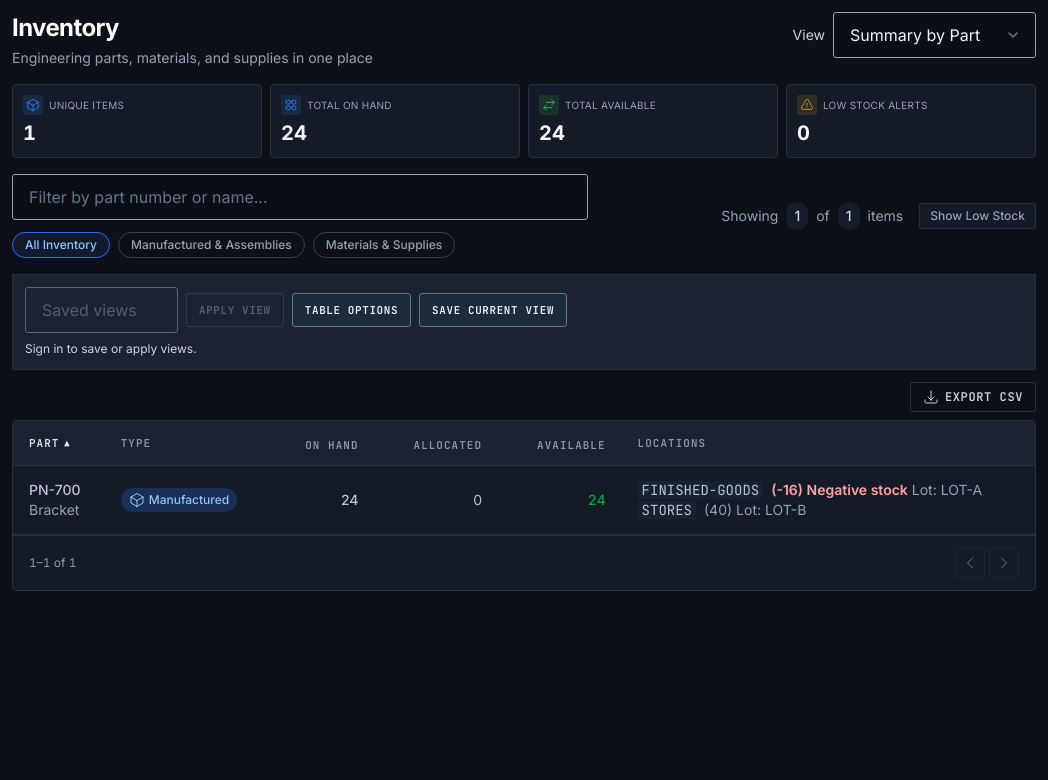
keeps negative stock visible to a view-only role without exposing adjustment controls
Select "Detail by Location" in the dropdown named "Inventory view" at [934, 35], box [833,12,1036,58]
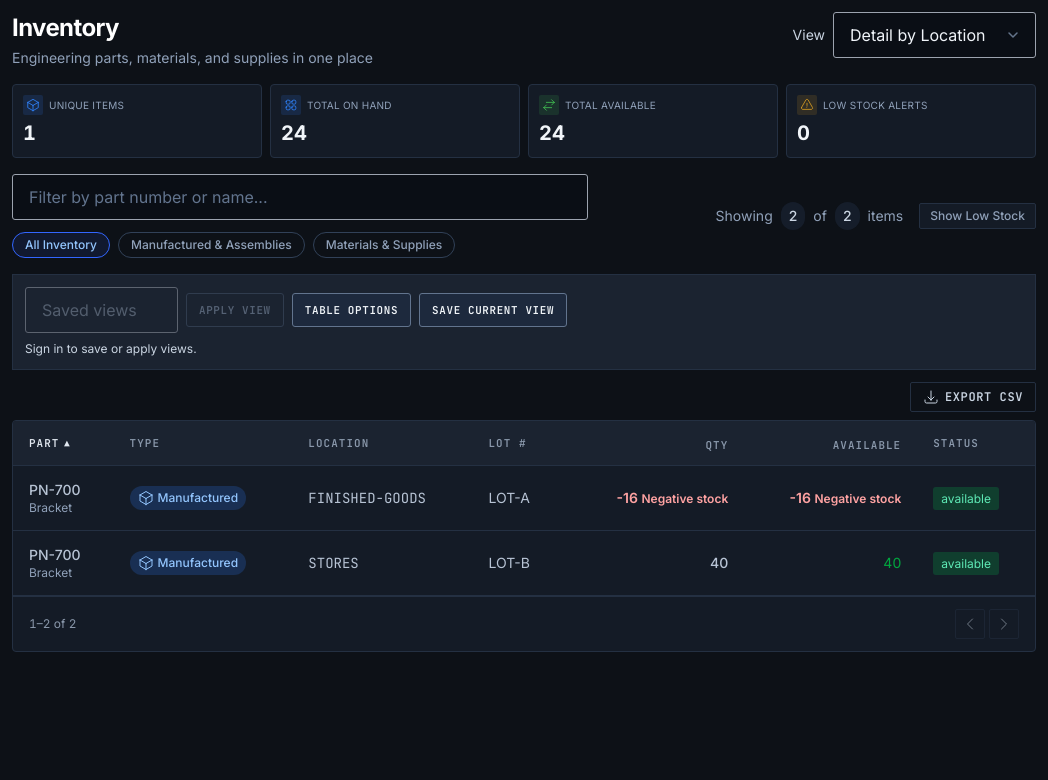
Result: the text "Negative stock" is shown 4 times
